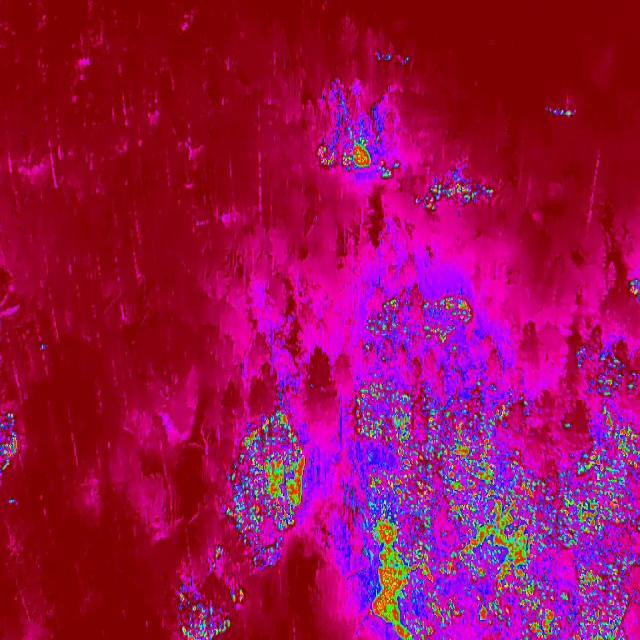fire: (339, 380, 564, 570), (364, 567, 639, 640), (208, 412, 312, 572), (362, 288, 479, 360), (563, 448, 640, 550), (576, 341, 636, 449), (312, 129, 404, 181), (174, 579, 247, 640), (413, 168, 498, 214), (0, 407, 21, 478), (546, 101, 578, 119), (625, 270, 640, 306), (562, 422, 572, 430)
